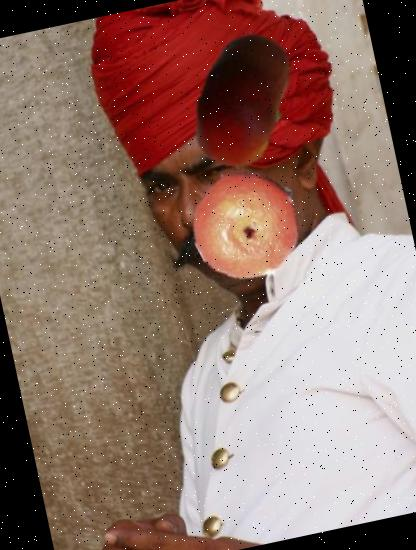Clementine: (181, 158, 314, 291)
Nectarine: (160, 19, 324, 183)
